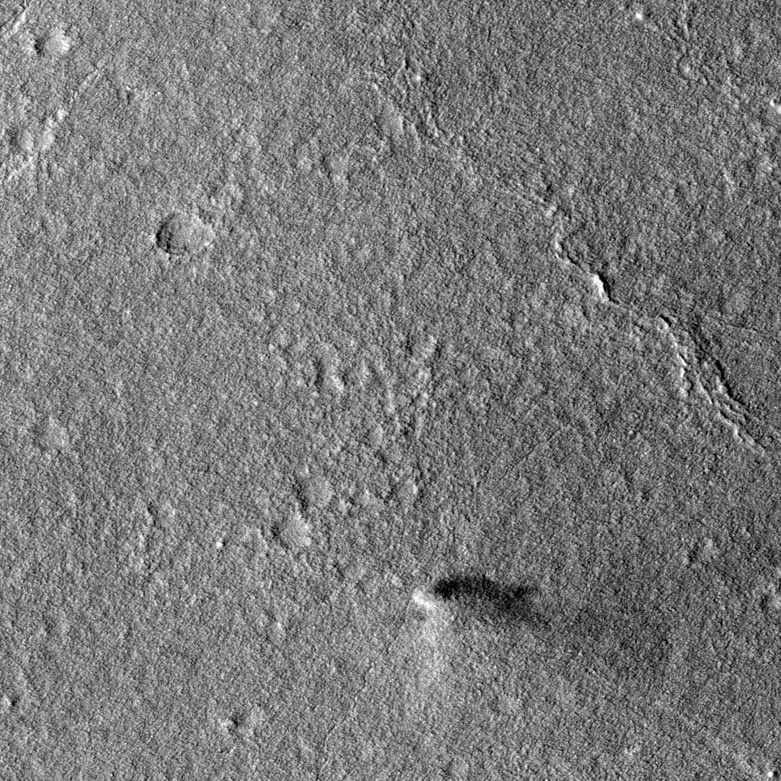dust_devil: (409, 572, 552, 636)
